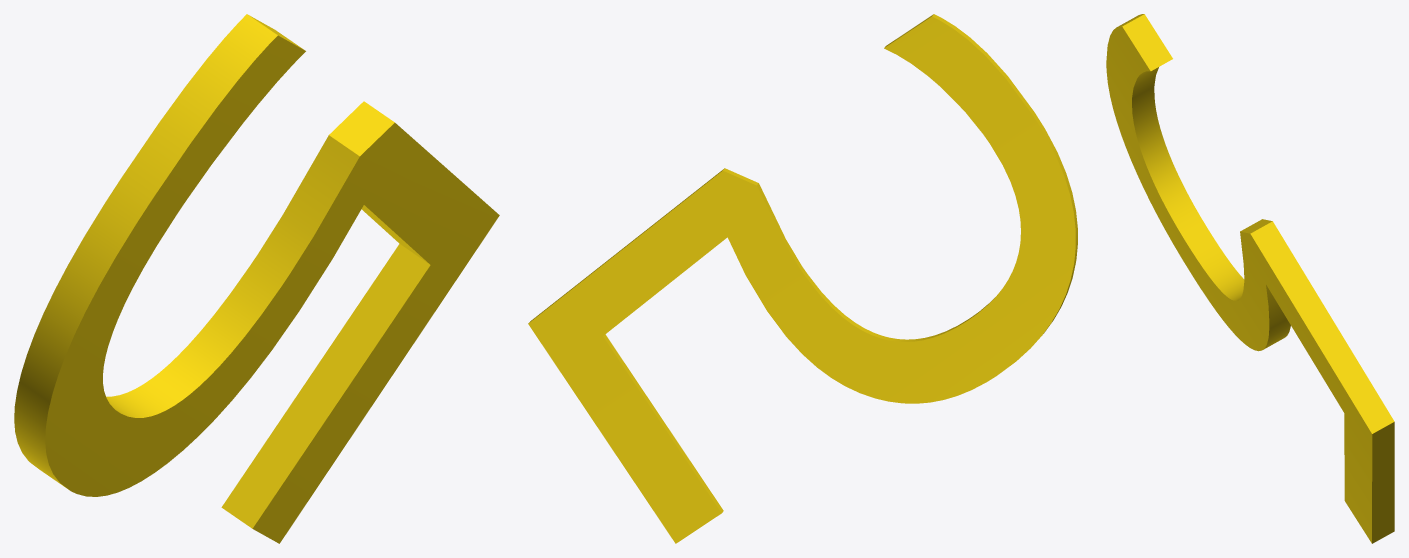
Rendered from Number_5.gltf.
The picture shows the model from 3 angles, left to right: view 1: azimuth 30°, elevation 25°; view 2: azimuth 150°, elevation 25°; view 3: azimuth 270°, elevation 25°; orthographic projection. The views are drawn at different scales.
Parts seen in each view (by area): view 1: Sub_1_Cell_1_3_Number_5; view 2: Sub_1_Cell_1_3_Number_5; view 3: Sub_1_Cell_1_3_Number_5.
Part boxes in pixels (x1,y1,x2,y2): Sub_1_Cell_1_3_Number_5: [14, 14, 499, 543]; Sub_1_Cell_1_3_Number_5: [528, 14, 1077, 543]; Sub_1_Cell_1_3_Number_5: [1106, 14, 1394, 543].
Size of the model in its own units: 0.0236 by 0.0247 by 0.0139.
